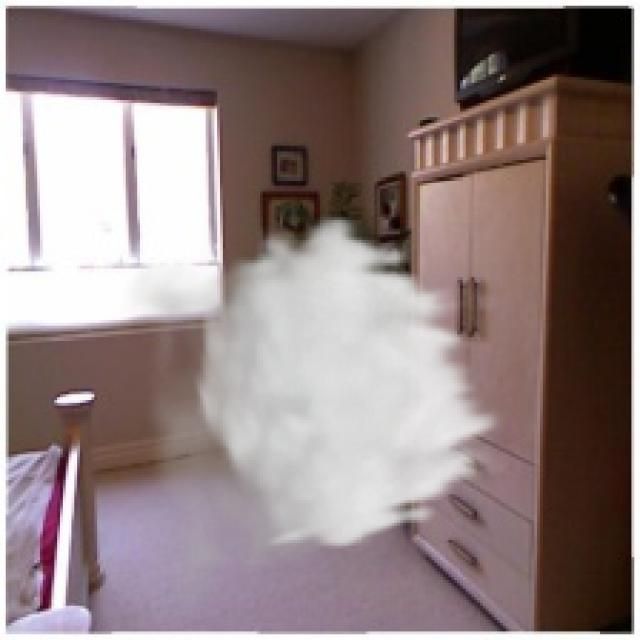smoke: (120, 211, 509, 623)
